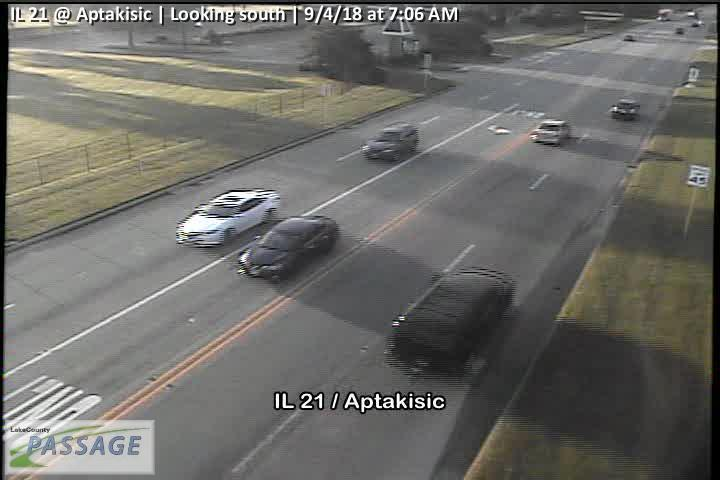Sedan: (387, 265, 514, 379), (171, 188, 279, 250), (238, 216, 337, 282), (360, 124, 419, 162), (531, 117, 568, 147), (608, 99, 639, 120)
